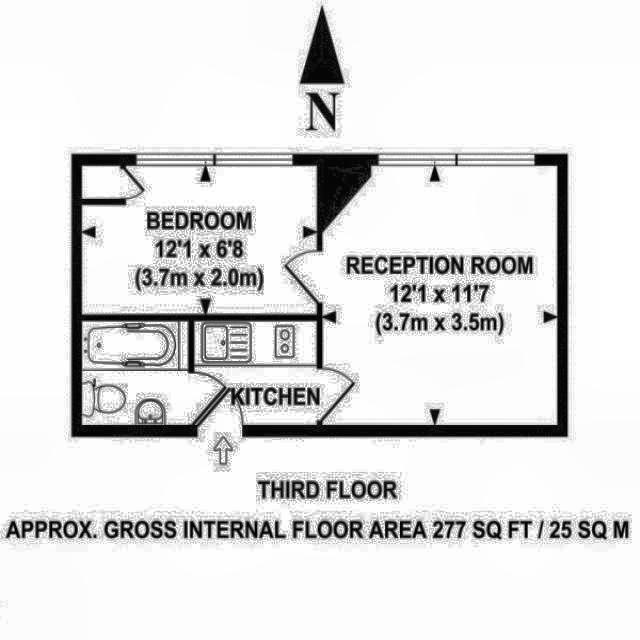room: (322, 166, 556, 425), (81, 166, 316, 313), (194, 321, 316, 425), (82, 322, 188, 423)
